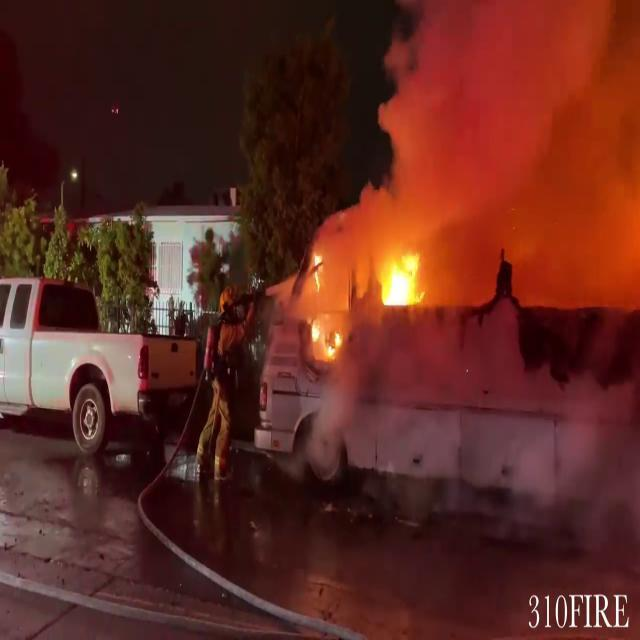Fire: (376, 243, 428, 315)
Smoke: (351, 0, 640, 290)
